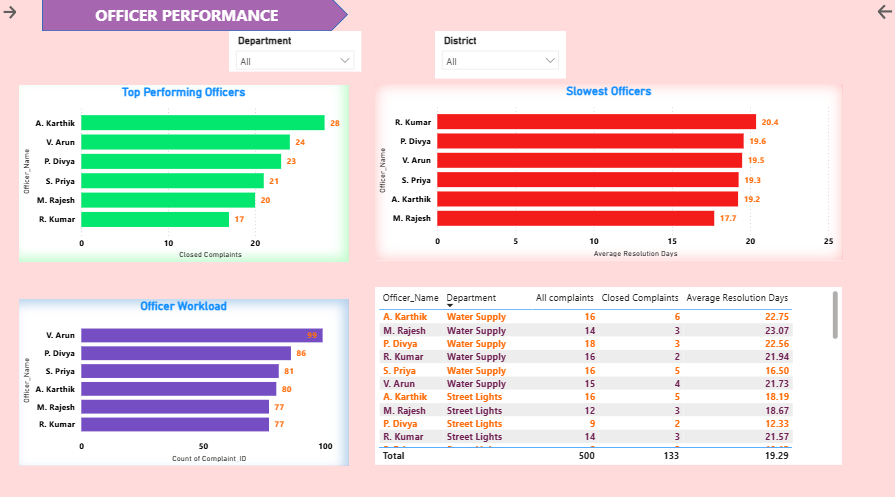

The page's visual inventory and layout, read from the dashboard file:
{"tool":"powerbi","page":{"name":"Officer Performance","canvas":[1280,720],"ordinal":2},"visuals":[{"type":"clusteredBarChart","title":"Top Performing Officers","fields":{"Category":["Citizen Grievance Data.Officer_Name"],"Y":["Citizen Grievance Data.Closed Complaints"]},"box":[26.6,123.6,470.5,252.5],"z":0},{"type":"clusteredBarChart","title":"Slowest Officers","fields":{"Category":["Citizen Grievance Data.Officer_Name"],"Y":["Citizen Grievance Data.Average Resolution Days"]},"box":[536.1,123.3,668,252.3],"z":1000},{"type":"clusteredBarChart","title":"Officer Workload","fields":{"Category":["Citizen Grievance Data.Officer_Name"],"Y":["CountNonNull(Citizen Grievance Data.Complaint_ID)"]},"box":[26.6,429.3,470.5,237.9],"z":2000},{"type":"tableEx","fields":{"Values":["Citizen Grievance Data.Officer_Name","Citizen Grievance Data.Department","Citizen Grievance Data.All complaints","Citizen Grievance Data.Closed Complaints","Citizen Grievance Data.Average Resolution Days"]},"box":[535.7,413.4,667.2,253.9],"z":3000},{"type":"slicer","fields":{"Values":["Citizen Grievance Data.District"]},"box":[620.7,47.9,187.4,67.8],"z":4000},{"type":"slicer","fields":{"Values":["Citizen Grievance Data.Department"]},"box":[327,47.9,188.7,58.5],"z":5000},{"type":"shape","box":[60.2,0,437.2,47.3],"z":6000},{"type":"actionButton","box":[0,0,27,40.5],"z":7000},{"type":"actionButton","box":[1250,0,29.7,40.5],"z":8000}]}

Visuals, with their boxes in screenshot pixels (x1, y1, x2, y2), scaled from the page's 1280x720 canvas onto the 895x497 screenshot:
"Top Performing Officers" clusteredBarChart: left=19, top=85, right=348, bottom=260
"Slowest Officers" clusteredBarChart: left=375, top=85, right=842, bottom=259
"Officer Workload" clusteredBarChart: left=19, top=296, right=348, bottom=461
tableEx - Citizen Grievance Data.Officer_Name x Citizen Grievance Data.Department: left=375, top=285, right=841, bottom=461
slicer - Citizen Grievance Data.District: left=434, top=33, right=565, bottom=80
slicer - Citizen Grievance Data.Department: left=229, top=33, right=361, bottom=73
shape: left=42, top=0, right=348, bottom=33
actionButton: left=0, top=0, right=19, bottom=28
actionButton: left=874, top=0, right=894, bottom=28
